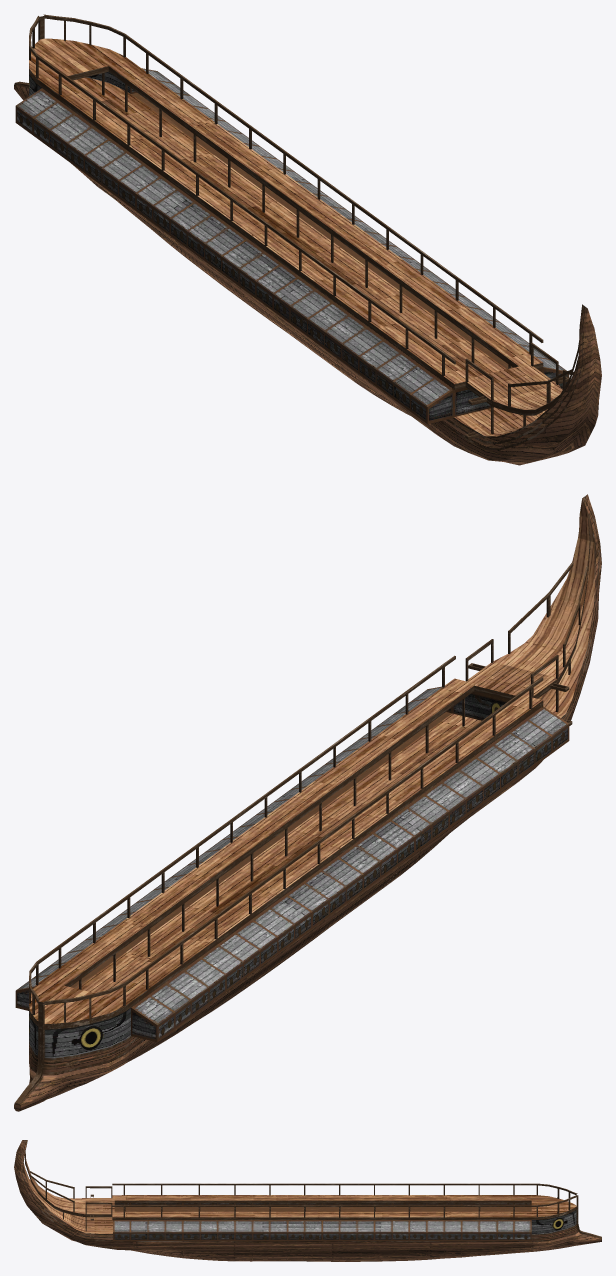
File: pers_trireme.glb
3 renders of one model, top to bottom at view 1: azimuth 30°, elevation 25°; view 2: azimuth 150°, elevation 25°; view 3: azimuth 270°, elevation 25°, orthographic. The views are drawn at different scales.
Size of the model in its own units: 6.82 by 11.02 by 48.25.
1 material, 1 textured.
